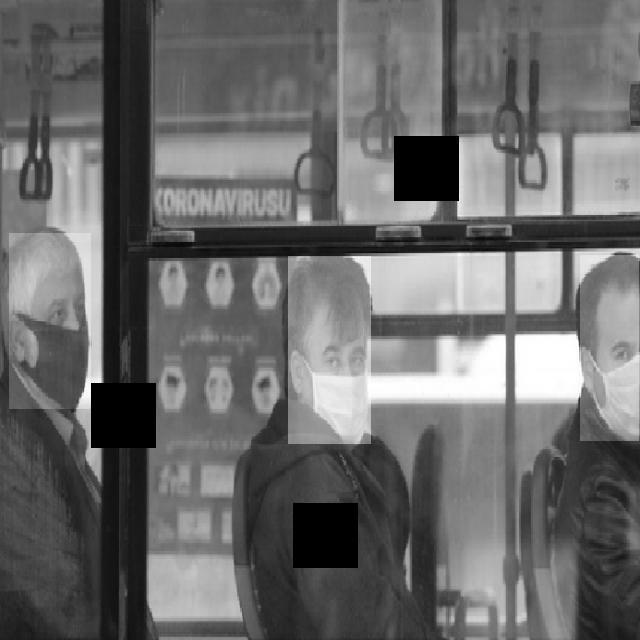mask: (288, 344, 371, 444), (10, 307, 88, 409), (580, 329, 640, 441)
